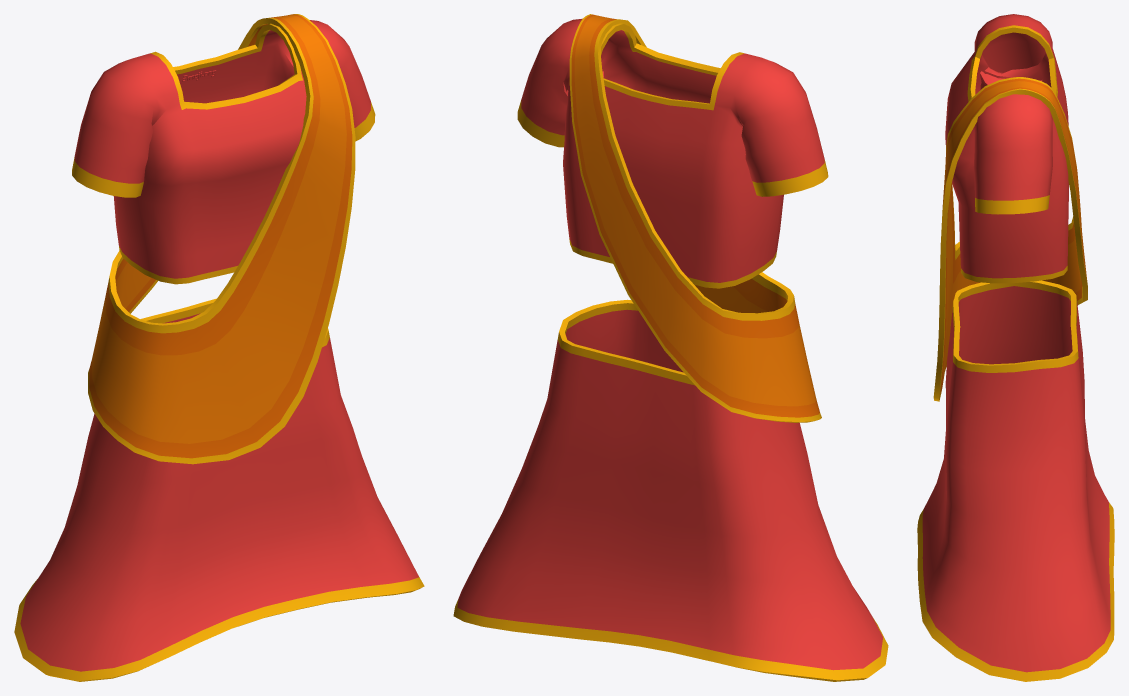
The model's file is sari.fbx.
3 views of the same model, side by side, from view 1: azimuth 30°, elevation 25°; view 2: azimuth 150°, elevation 25°; view 3: azimuth 270°, elevation 25° (orthographic). The views are drawn at different scales.
Visible parts, largest first — view 1: Circle.1799; view 2: Circle.1799; view 3: Circle.1799.
Boxes of the visible parts, box(x1,y1,x2,y2) form: Circle.1799: box(14, 14, 424, 681); Circle.1799: box(453, 14, 888, 681); Circle.1799: box(917, 14, 1114, 681).
Bounding box in the file's own units: 154 × 223 × 73.02.
Materials: 1 (1 with a texture image).
